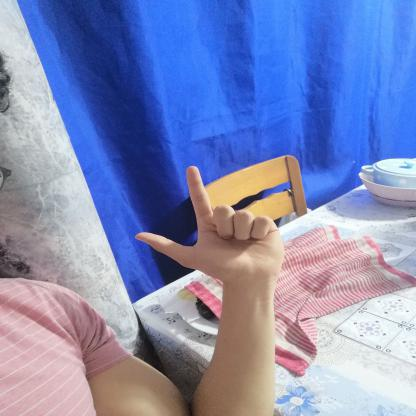LAAM: (117, 155, 301, 293)
